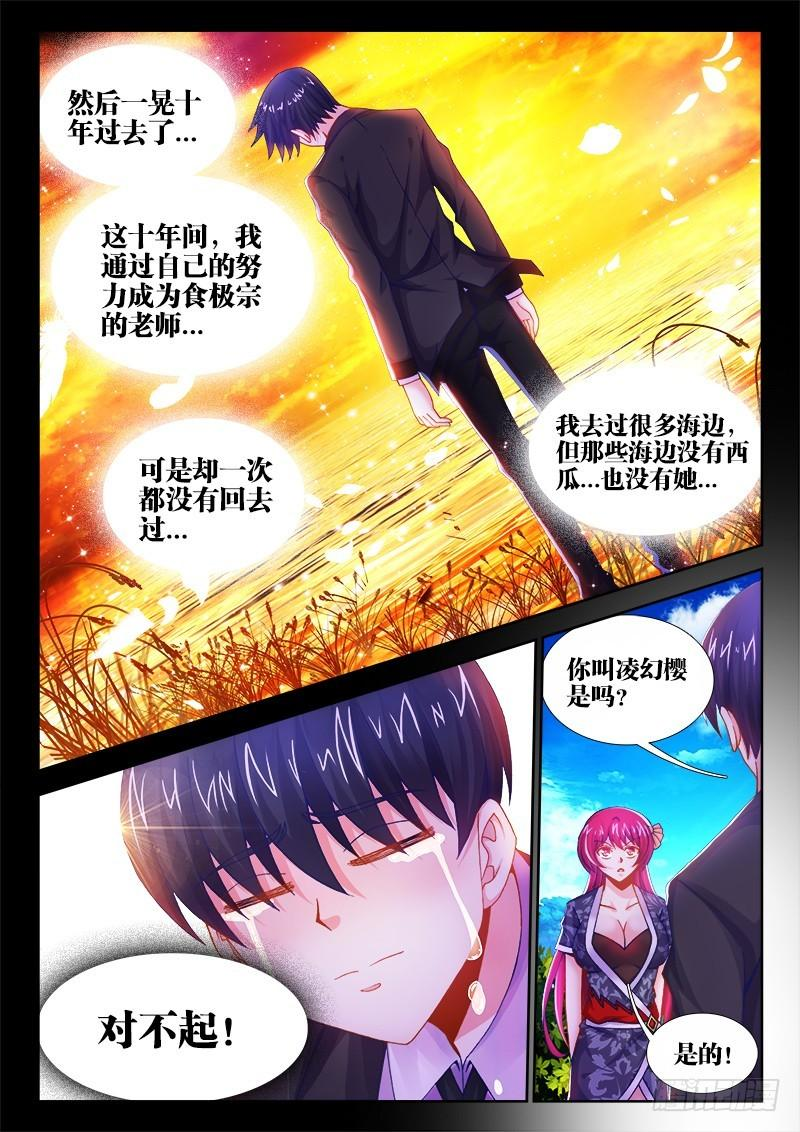boxEllipse: (39, 940, 321, 1108)
boxFlash: (42, 173, 327, 371), (513, 344, 762, 547), (90, 413, 315, 583), (36, 35, 249, 173), (534, 610, 720, 754), (633, 1006, 759, 1105)
minBox: (27, 23, 777, 781), (27, 628, 546, 1108), (525, 559, 768, 1108)
